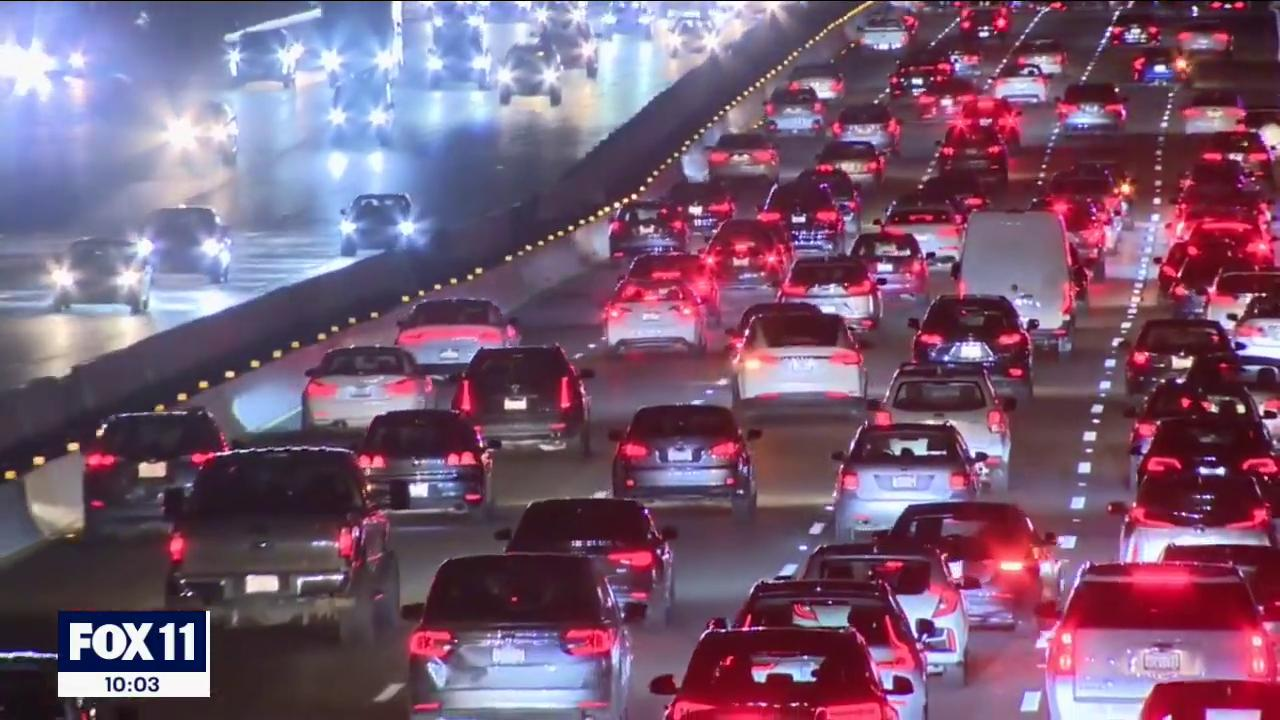car: (174, 444, 398, 632), (414, 554, 630, 720), (1036, 564, 1264, 720), (732, 575, 945, 717), (801, 541, 975, 684), (884, 496, 1070, 613), (510, 498, 686, 618), (667, 635, 891, 720), (833, 424, 978, 541), (614, 402, 762, 512), (464, 344, 594, 464), (883, 362, 1021, 475), (360, 412, 492, 518), (912, 294, 1036, 395), (88, 412, 218, 504), (736, 318, 867, 404), (296, 350, 434, 426), (397, 297, 523, 364), (603, 276, 707, 351), (1121, 320, 1236, 386), (51, 243, 152, 307), (142, 208, 233, 279), (340, 192, 417, 253)
